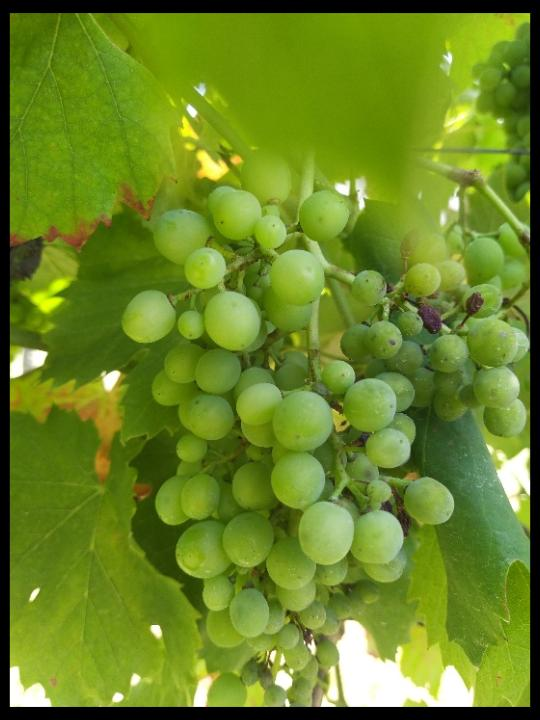grape: (115, 140, 523, 657)
